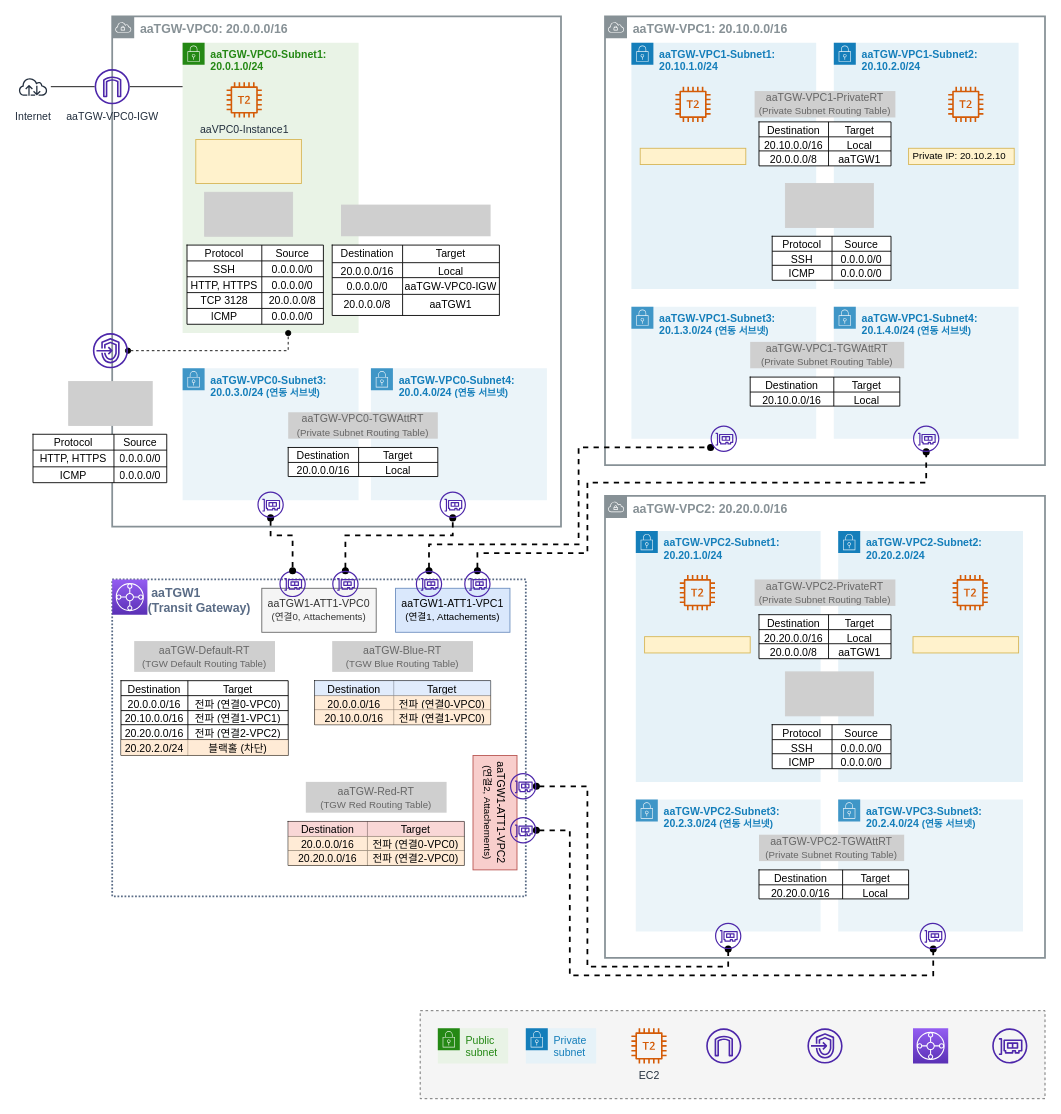
This 1061x1114 diagram has some shape labels left out. Each missing label, with the centre of its shape:
"aaTGW-VPC0-PublicRT (Public Subnet Routing Table)" goes at (415,220).
"aaVPC0SG1 (Security Group, Inbound Rule)" goes at (248,213).
"aaVPC0SG2 (Security Group, Inbound Rule)" goes at (110,403).
"aaVPC1-Instance1" goes at (692,103).
"aaVPC1-Instance2" goes at (965,103).
"aaVPC1SG1 (Security Group, Inbound Rule)" goes at (829,205).
"aaVPC2-Instance1" goes at (697,592).
"aaVPC2-Instance2" goes at (969,592).
"aaVPC2SG1 (Security Group, Inbound Rule)" goes at (829,693).
"Attachments" goes at (1009,1045).
"IGW" goes at (723,1045).
"Interface Endpoint (CloudFormation Endpoint)" goes at (824,1045).
"Private IP: 20.0.1.10 Public IP 사용 Web Proxy Server" goes at (248,161).
"Private IP: 20.10.1.10" goes at (692,156).
"Private IP: 20.20.1.10" goes at (697,644).
"Private IP: 20.20.2.10" goes at (965,644).
"Transit Gateway" goes at (930,1045).
